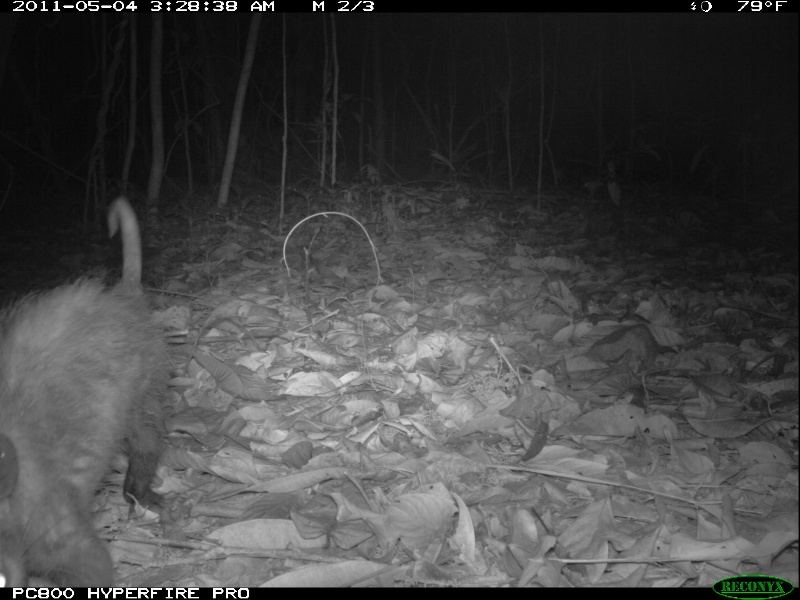opossum: (1, 196, 172, 585)
